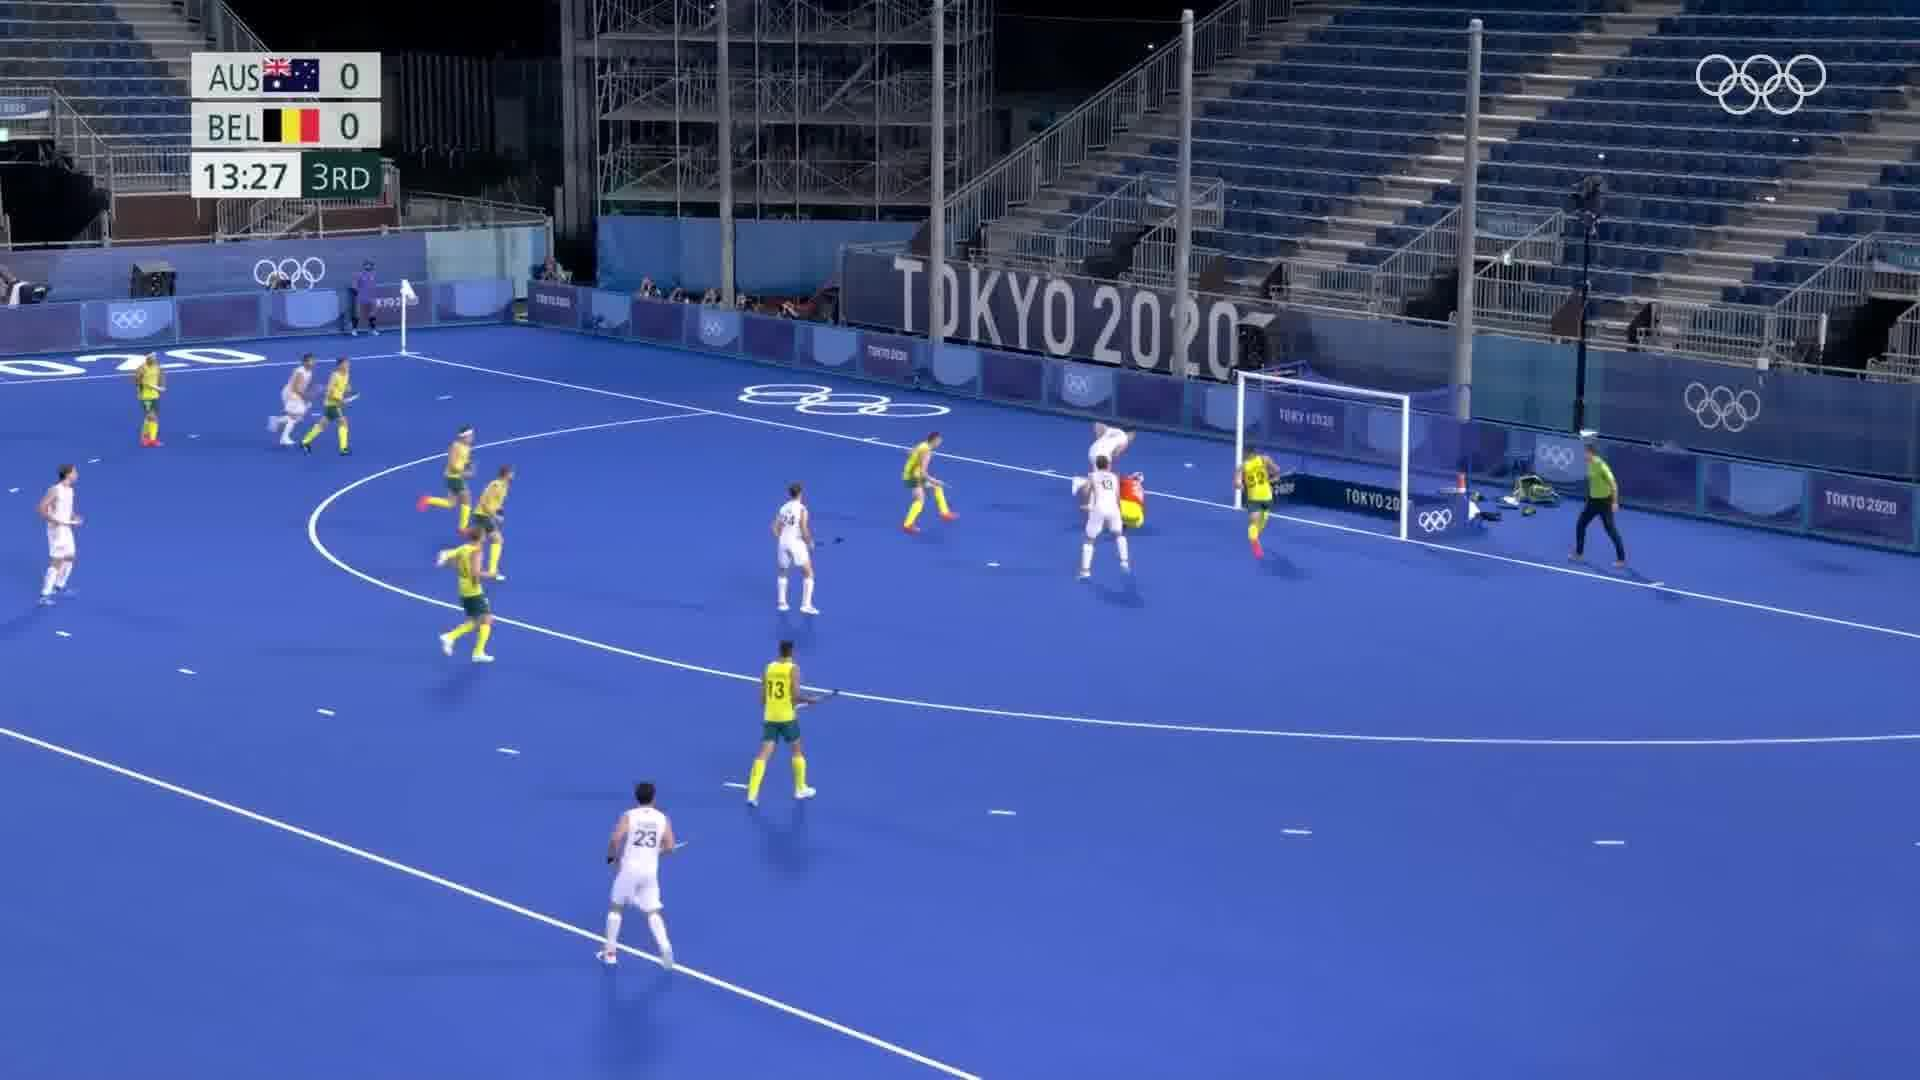ball: (1180, 458, 1197, 472)
